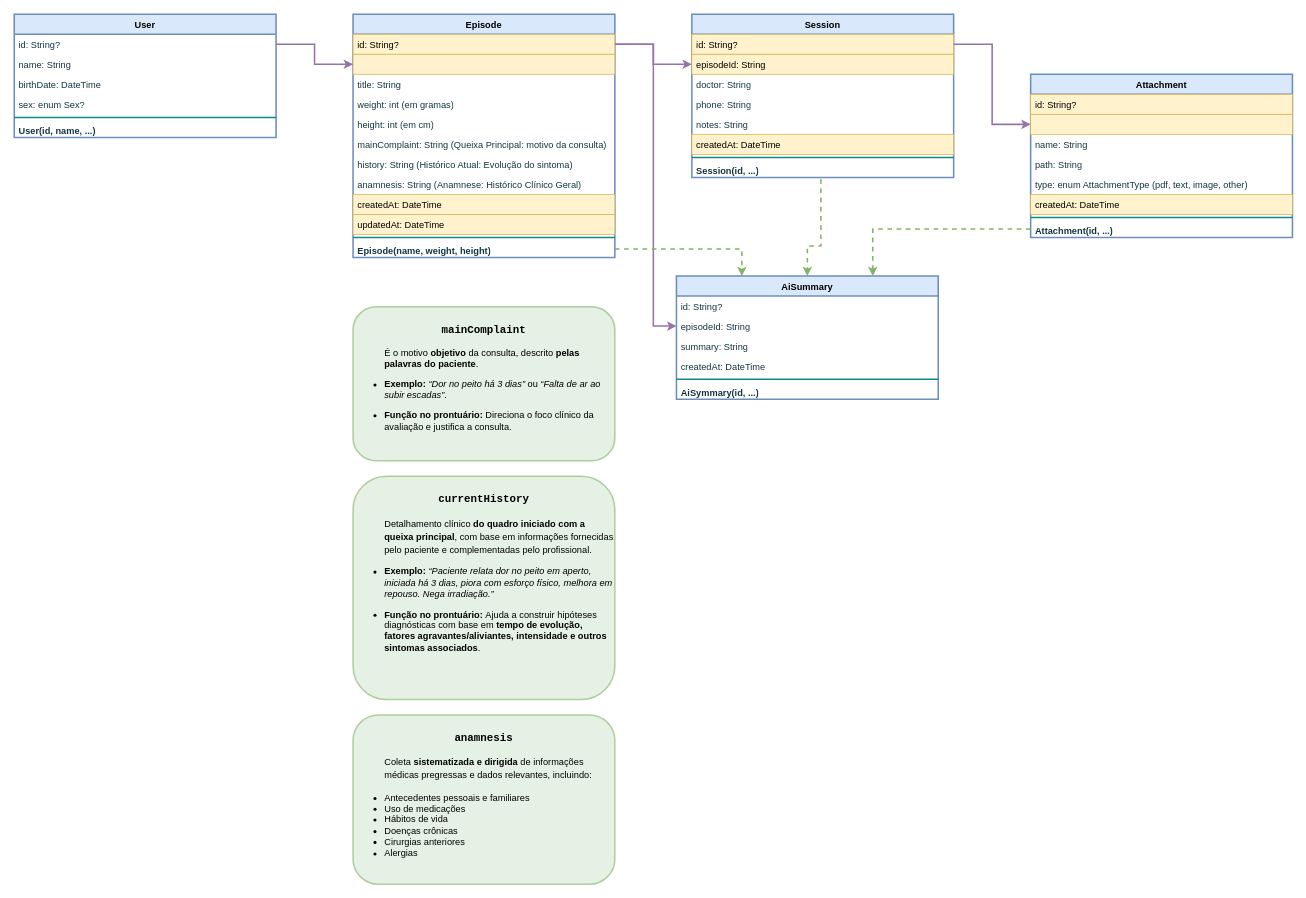
Some shapes in this 1306 by 898 pixel diagram are drawn without their labels. Each missing label, with the centre of its shape:
"sessionId: String" belongs at (1161,124).
"userId: String" belongs at (483,64).
